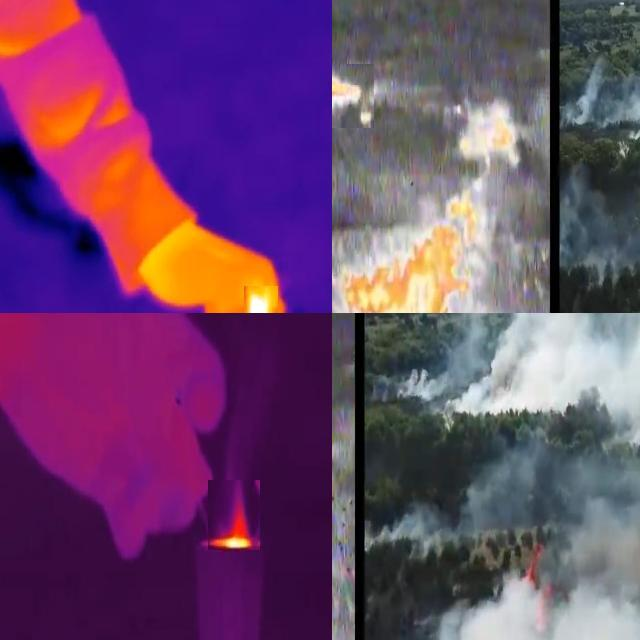fire: (343, 190, 481, 314), (456, 102, 516, 168), (209, 481, 261, 551), (333, 65, 375, 129), (245, 287, 279, 314), (525, 546, 541, 590)
